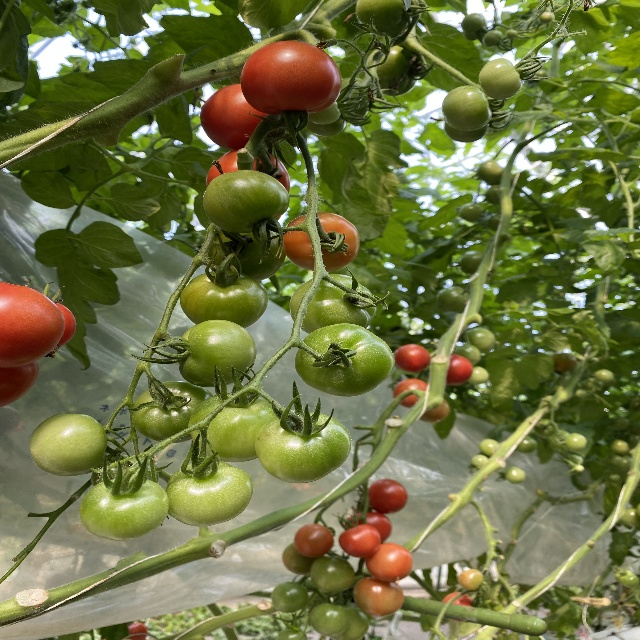l_fully_ripened: (241, 40, 342, 115), (0, 283, 65, 368), (199, 83, 280, 150), (205, 147, 290, 194), (0, 361, 39, 407), (344, 511, 393, 544), (338, 524, 382, 557), (368, 479, 407, 513), (394, 344, 431, 372), (446, 354, 472, 385)
l_green: (294, 323, 394, 398), (253, 412, 352, 483), (187, 393, 283, 462), (165, 459, 253, 528), (79, 478, 170, 542), (202, 169, 290, 233), (177, 319, 257, 387), (131, 380, 214, 444), (290, 274, 377, 334), (180, 271, 269, 329), (29, 413, 107, 477), (207, 228, 286, 282), (442, 84, 493, 131), (373, 46, 419, 96), (356, 0, 415, 37), (479, 58, 524, 100), (309, 556, 356, 592), (309, 603, 352, 637), (281, 543, 319, 576), (271, 580, 308, 613), (303, 109, 346, 136), (444, 122, 491, 143), (302, 100, 341, 125)
l_half_ripened: (281, 211, 360, 272), (353, 575, 405, 617), (365, 543, 414, 582), (294, 524, 335, 557), (418, 398, 450, 423)
